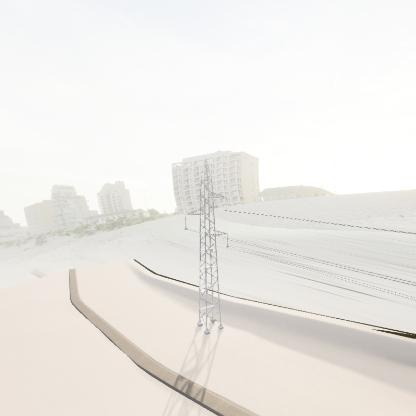tower: (180, 157, 234, 341)
